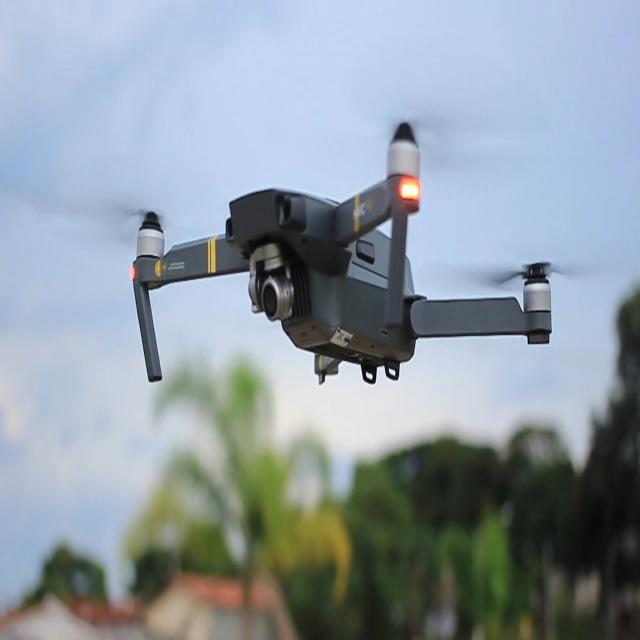Drone: (131, 116, 552, 380)
